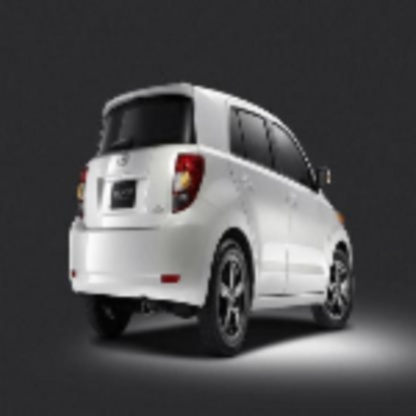Vehicle: (67, 80, 356, 362)
